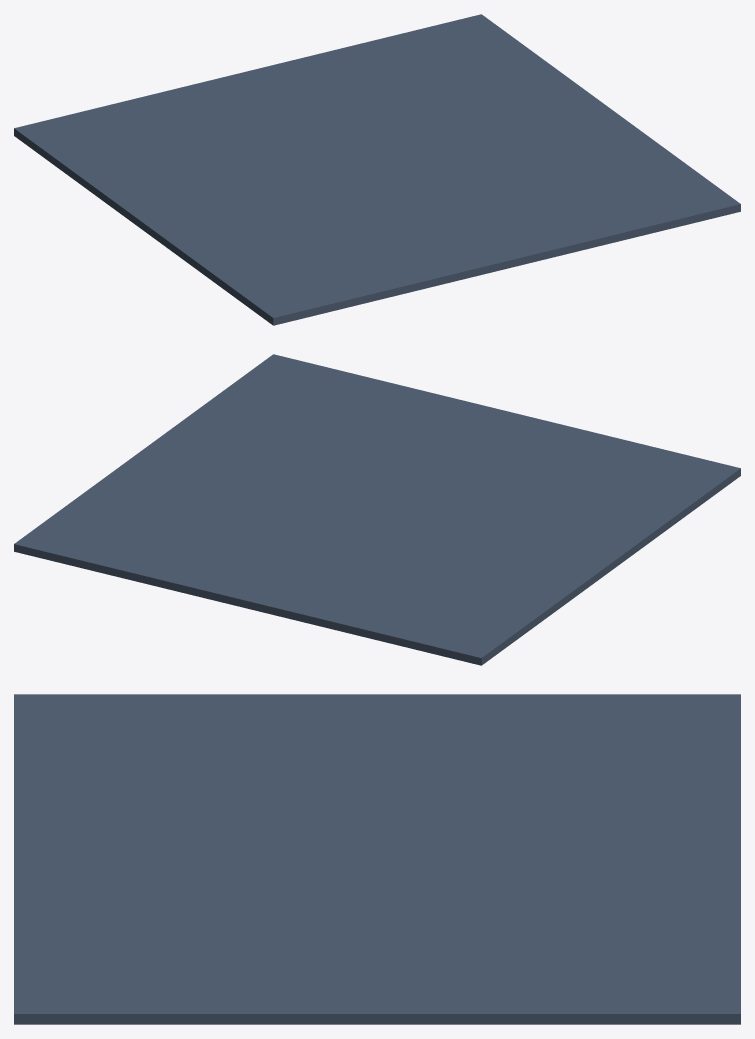
Rendered from floor_002_f_efd3b0af10.obj.
3 views of the same model, one above another, from view 1: azimuth 30°, elevation 25°; view 2: azimuth 150°, elevation 25°; view 3: azimuth 270°, elevation 25° (orthographic). The views are drawn at different scales.
Visible parts, largest first — view 1: Floor_002_f_efd3b0af10; view 2: Floor_002_f_efd3b0af10; view 3: Floor_002_f_efd3b0af10.
Boxes of the visible parts, box(x1,y1,x2,y2) form: Floor_002_f_efd3b0af10: box(14, 14, 740, 325); Floor_002_f_efd3b0af10: box(14, 354, 740, 665); Floor_002_f_efd3b0af10: box(14, 694, 740, 1024).
Bounding box in the file's own units: 12.83 × 0.2 × 12.33.
